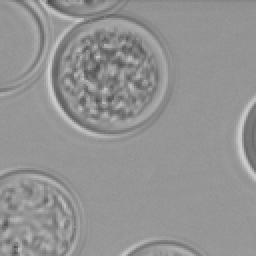picoshell: (46, 16, 168, 136), (0, 172, 78, 254), (236, 94, 254, 180), (44, 0, 124, 16), (120, 240, 200, 254)
